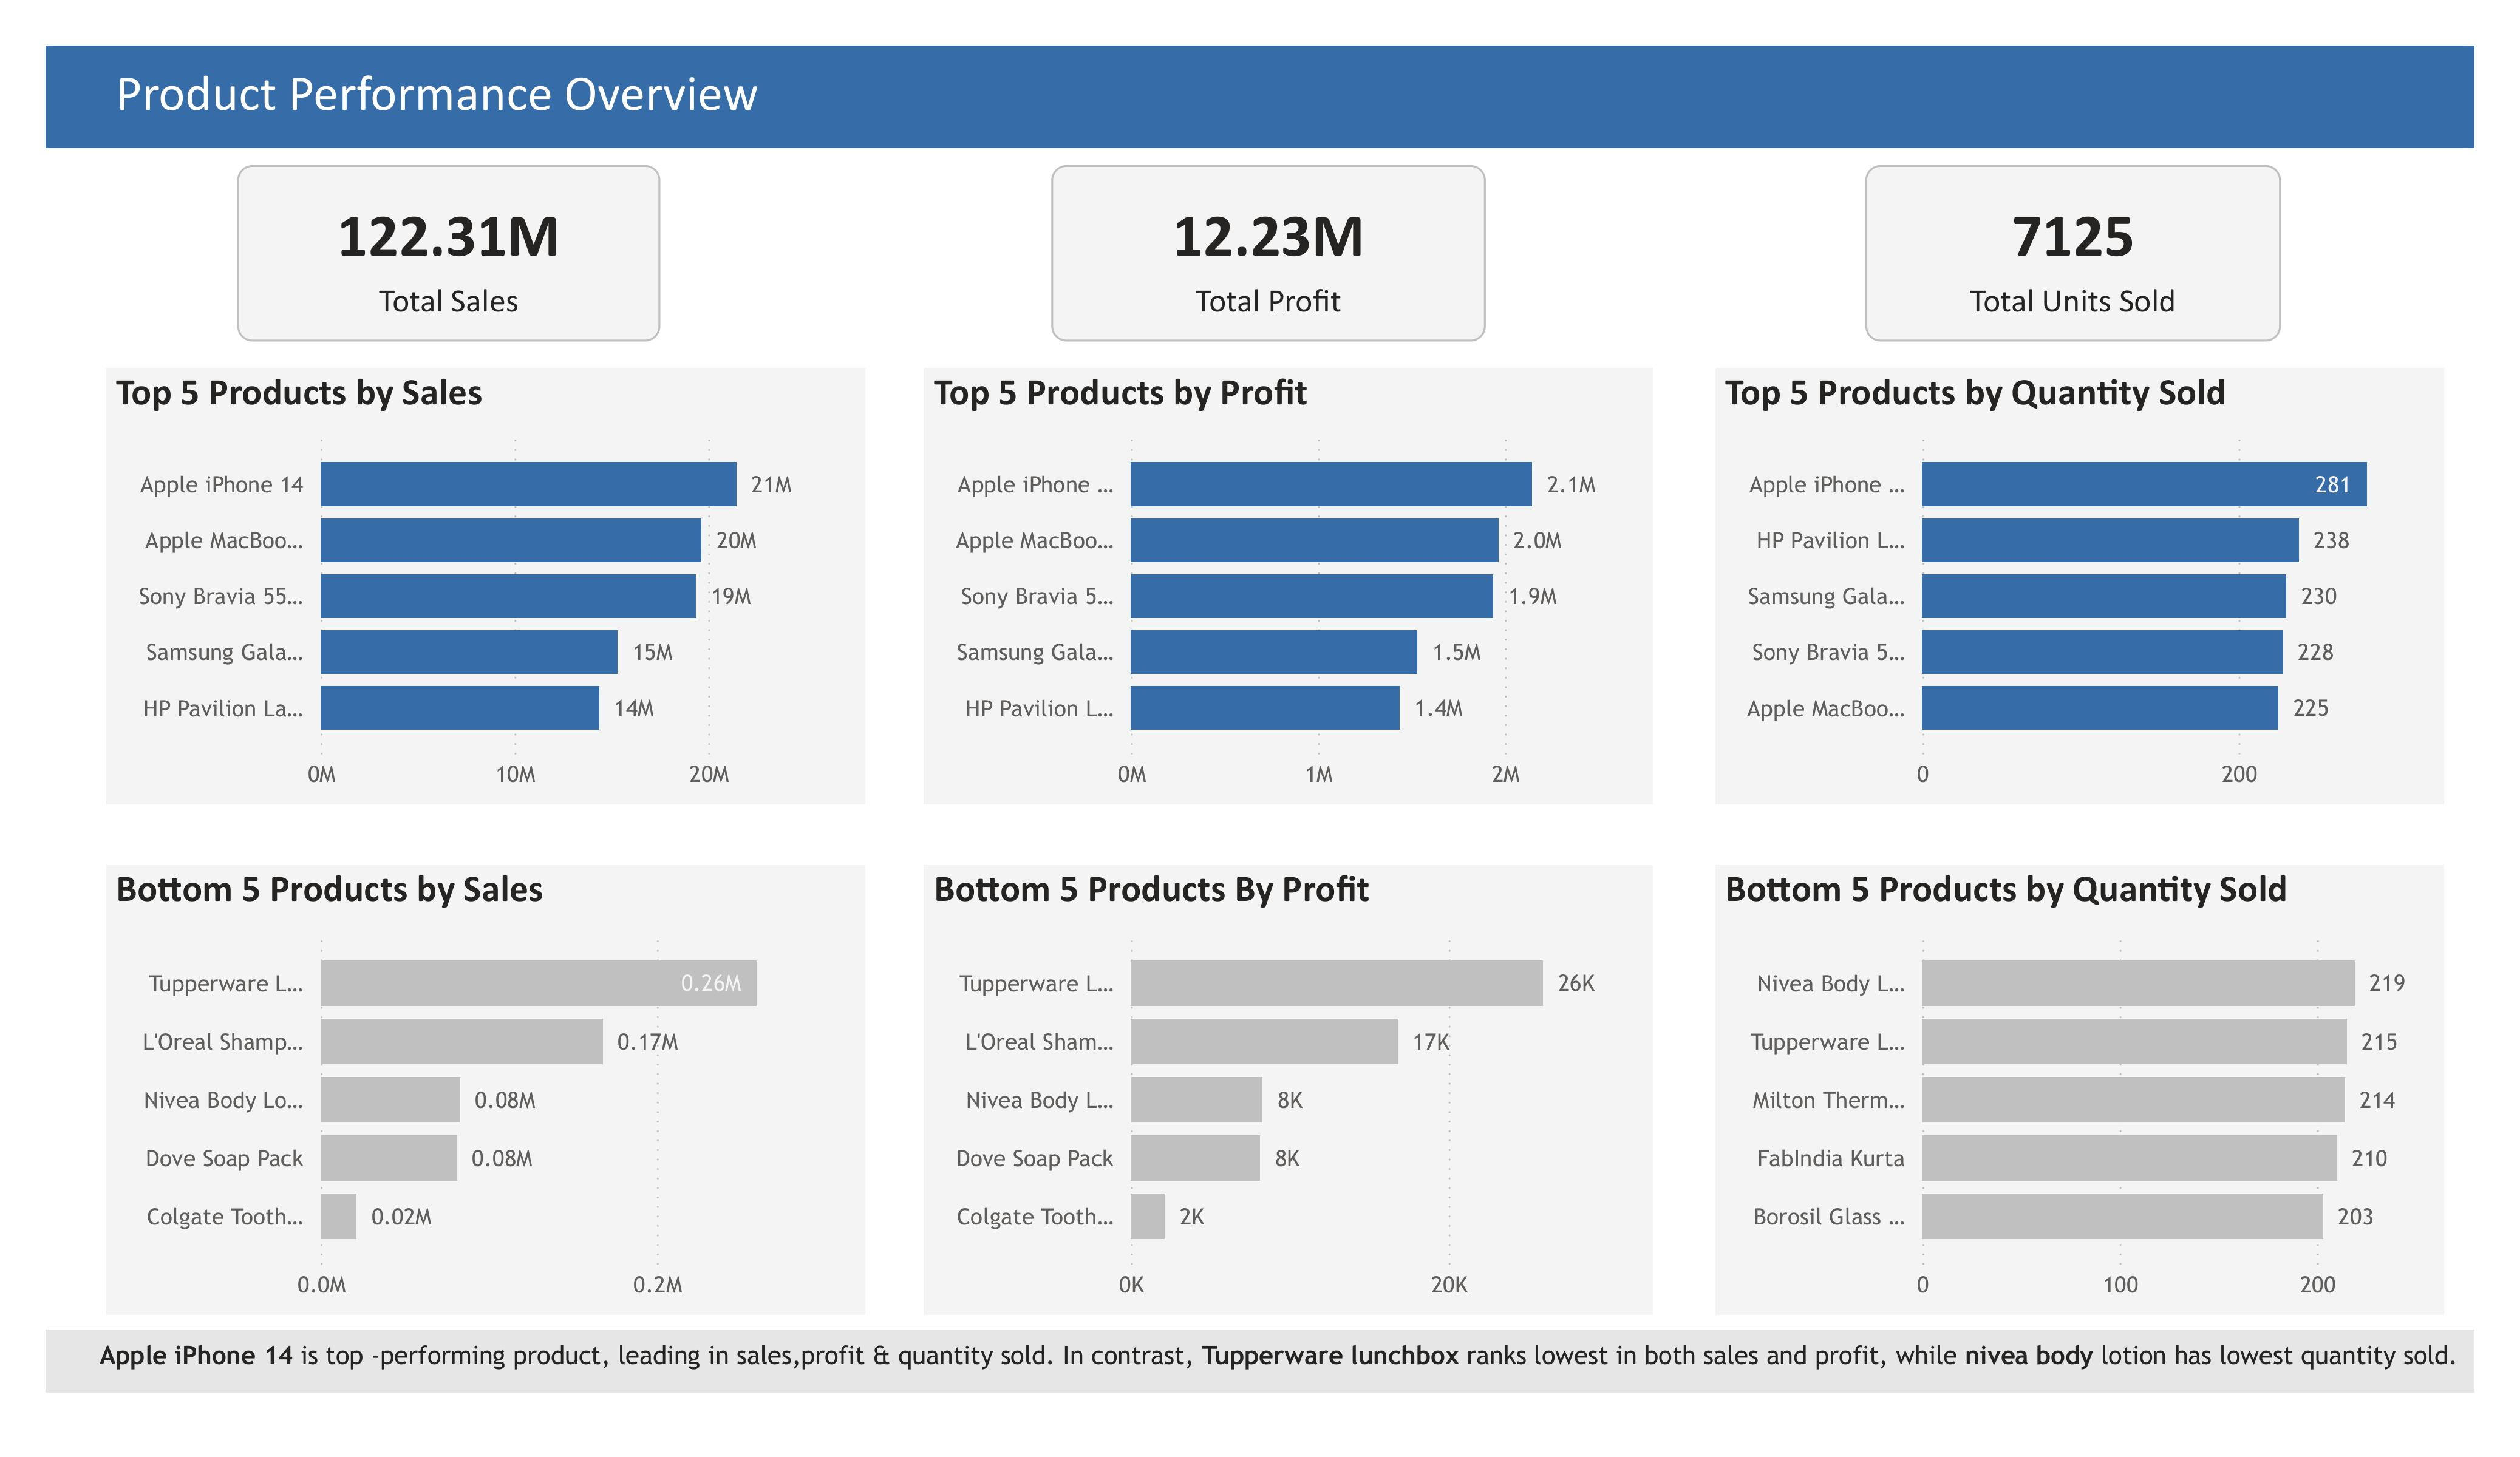

The dashboard page shown, as its layout file describes it:
{"tool":"powerbi","page":{"name":"Top & Bottom 5 Analysis","canvas":[1280,720],"ordinal":0},"visuals":[{"type":"barChart","title":"Top 5 Products by Sales","fields":{"Category":["Dim Product.Product Name"],"Y":["Sum(Sale Details.Net Sales)"]},"box":[31.8,170,399.9,229.9],"z":0},{"type":"barChart","title":"Bottom 5 Products by Sales","fields":{"Category":["Dim Product.Product Name"],"Y":["Sum(Sale Details.Net Sales)"]},"box":[31.8,431.7,399.9,237.2],"z":1000},{"type":"barChart","title":"Bottom 5 Products By Profit","fields":{"Category":["Dim Product.Product Name"],"Y":["Sum(Sale Details.Profit)"]},"box":[463.5,431.7,384,237.2],"z":2000},{"type":"barChart","title":"Top  5 Products by Profit","fields":{"Category":["Dim Product.Product Name"],"Y":["Sum(Sale Details.Profit)"]},"box":[463.5,170,384,229.9],"z":3000},{"type":"barChart","title":"Top 5 Products by Quantity Sold","fields":{"Y":["Sum(Sale Details.Units Sold)"],"Category":["Dim Product.Product Name"]},"box":[880.4,170,384,229.9],"z":4000},{"type":"shape","box":[0,0,1280.3,53.8],"z":5000},{"type":"barChart","title":"Bottom 5 Products by Quantity Sold","fields":{"Category":["Dim Product.Product Name"],"Y":["Sum(Sale Details.Units Sold)"]},"box":[880.4,431.7,384,237.2],"z":6000},{"type":"shape","box":[31.8,74.6,1231.4,75.8],"z":7000},{"type":"textbox","box":[31.8,0,463.5,53.8],"z":8000},{"type":"card","fields":{"Values":["Sum(Sale Details.Net Sales)"]},"box":[101.2,62.5,222.5,93.8],"z":9000},{"type":"card","fields":{"Values":["Sum(Sale Details.Profit)"]},"box":[530,62.5,228.8,93.8],"z":10000},{"type":"card","fields":{"Values":["Sum(Sale Details.Units Sold)"]},"box":[958.8,62.5,218.8,93.8],"z":11000},{"type":"textbox","box":[0,677.4,1280.3,33],"z":12000}]}

Visuals, with their boxes on the page's 1280x720 design canvas (x1, y1, x2, y2). These are canvas units, not pixel positions in the 2520x1457 screenshot, which may show the page scaled, cropped or inside an application window:
"Top 5 Products by Sales" barChart: Rect(32, 170, 432, 400)
"Bottom 5 Products by Sales" barChart: Rect(32, 432, 432, 669)
"Bottom 5 Products By Profit" barChart: Rect(464, 432, 848, 669)
"Top  5 Products by Profit" barChart: Rect(464, 170, 848, 400)
"Top 5 Products by Quantity Sold" barChart: Rect(880, 170, 1264, 400)
shape: Rect(0, 0, 1280, 54)
"Bottom 5 Products by Quantity Sold" barChart: Rect(880, 432, 1264, 669)
shape: Rect(32, 75, 1263, 150)
textbox: Rect(32, 0, 495, 54)
card - Sum(Sale Details.Net Sales): Rect(101, 62, 324, 156)
card - Sum(Sale Details.Profit): Rect(530, 62, 759, 156)
card - Sum(Sale Details.Units Sold): Rect(959, 62, 1178, 156)
textbox: Rect(0, 677, 1280, 710)
